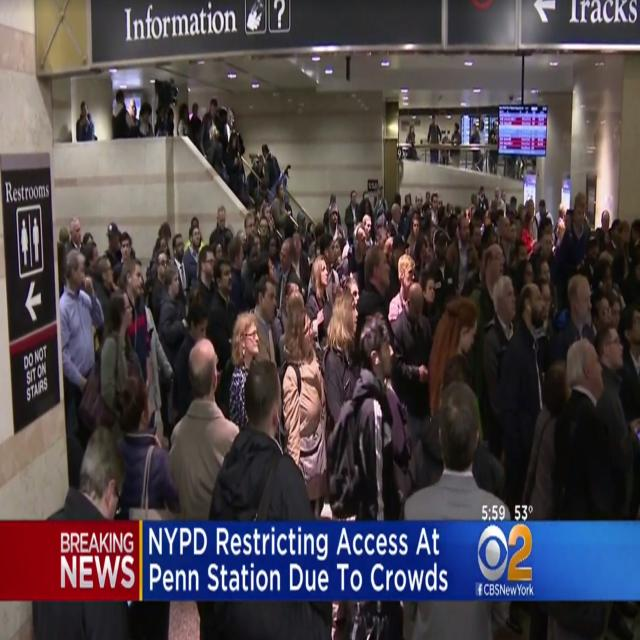body: (206, 357, 318, 640), (402, 379, 514, 638), (327, 312, 391, 640), (33, 424, 130, 640), (562, 336, 614, 640), (169, 333, 241, 523), (58, 248, 106, 492), (281, 301, 329, 519), (322, 290, 366, 523), (113, 372, 179, 522), (482, 274, 519, 458), (427, 292, 479, 418), (393, 281, 433, 417), (174, 292, 212, 428), (594, 323, 629, 469), (99, 289, 134, 427), (555, 272, 602, 361), (228, 312, 260, 434), (205, 256, 238, 373), (590, 217, 638, 297), (121, 256, 147, 388), (519, 283, 546, 410), (304, 254, 334, 366), (158, 265, 189, 371), (560, 190, 590, 292), (249, 274, 280, 368), (357, 244, 392, 323), (619, 302, 640, 424), (424, 228, 456, 304), (447, 216, 477, 296), (274, 236, 301, 320), (532, 274, 554, 377), (477, 244, 506, 319), (387, 253, 416, 322), (172, 232, 192, 327), (388, 232, 411, 310), (150, 250, 170, 332), (438, 189, 477, 228), (291, 232, 311, 308), (405, 214, 427, 282), (227, 236, 246, 313), (420, 272, 442, 338), (319, 233, 338, 309), (182, 223, 202, 295), (148, 236, 172, 294), (348, 224, 368, 292), (196, 244, 216, 308), (209, 207, 234, 258), (240, 242, 258, 312), (294, 210, 310, 288), (513, 259, 534, 318), (496, 214, 516, 275), (200, 98, 220, 158), (270, 180, 289, 242), (111, 89, 134, 140), (356, 192, 376, 248), (589, 289, 613, 335), (344, 189, 363, 246), (262, 143, 281, 200), (150, 220, 172, 269), (322, 203, 346, 242), (226, 132, 240, 196), (264, 232, 281, 284), (75, 100, 96, 142), (353, 213, 374, 255), (322, 192, 342, 235), (183, 216, 205, 255), (599, 209, 615, 261), (104, 221, 122, 267), (412, 235, 429, 282), (372, 184, 389, 230), (427, 113, 442, 164), (308, 222, 328, 260), (83, 240, 99, 284), (136, 101, 155, 137), (96, 257, 114, 295), (488, 119, 500, 175), (535, 198, 554, 231), (242, 212, 255, 260), (190, 102, 202, 153), (331, 235, 347, 273), (538, 227, 554, 264), (469, 123, 481, 171), (405, 122, 419, 162), (69, 218, 85, 253), (609, 294, 623, 334), (177, 101, 192, 138), (527, 198, 539, 244), (247, 154, 260, 196), (260, 200, 276, 232), (375, 215, 387, 256), (428, 191, 441, 228), (506, 198, 526, 222), (477, 120, 486, 172), (118, 232, 132, 264), (536, 258, 554, 282), (390, 202, 402, 236), (398, 188, 412, 216), (490, 186, 505, 212), (508, 220, 519, 254), (555, 216, 566, 249), (258, 214, 270, 244), (441, 129, 450, 166), (514, 240, 528, 263), (498, 189, 509, 217), (226, 107, 234, 143), (58, 225, 70, 249), (479, 185, 489, 213), (451, 121, 462, 146), (212, 241, 224, 262), (538, 216, 552, 234), (415, 192, 424, 219), (82, 228, 94, 246), (422, 190, 432, 210), (558, 206, 567, 221), (307, 214, 313, 236), (236, 228, 247, 240), (394, 190, 401, 204), (586, 208, 592, 223)
